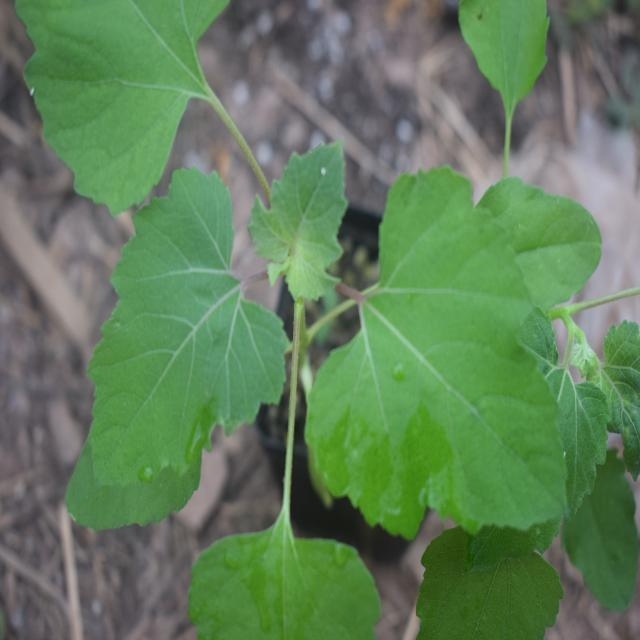cocklebur: (49, 0, 569, 596)
